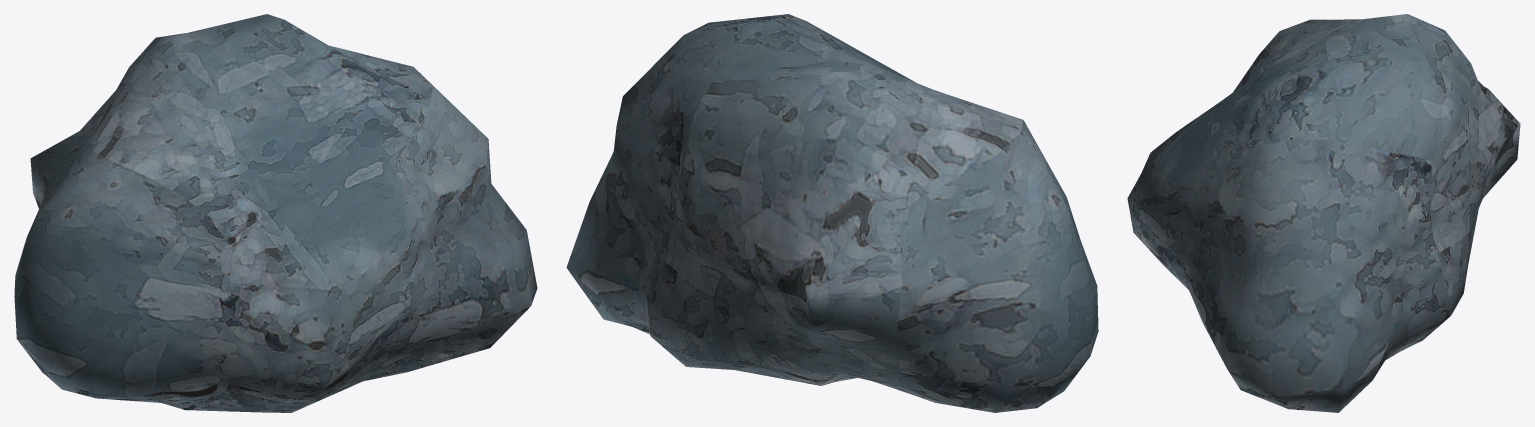
The model's file is rock47.fbx.
3 views of the same model, side by side, from view 1: azimuth 30°, elevation 25°; view 2: azimuth 150°, elevation 25°; view 3: azimuth 270°, elevation 25° (orthographic). The views are drawn at different scales.
Visible parts, largest first — view 1: pCube49; view 2: pCube49; view 3: pCube49.
Part boxes in pixels (x1,y1,x2,y2): pCube49: (14, 14, 537, 412); pCube49: (566, 14, 1098, 412); pCube49: (1127, 14, 1520, 412).
Size of the model in its own units: 6.38 by 4.13 by 4.95.
